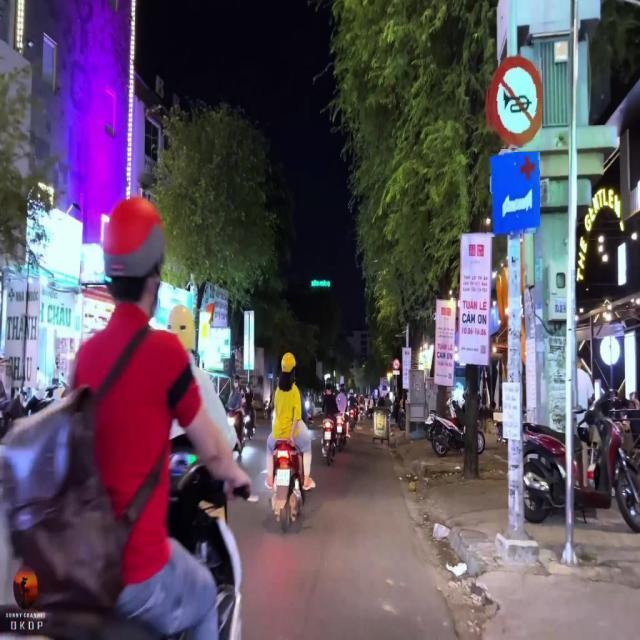128-cam-su-dung-coi: (485, 54, 542, 150)
